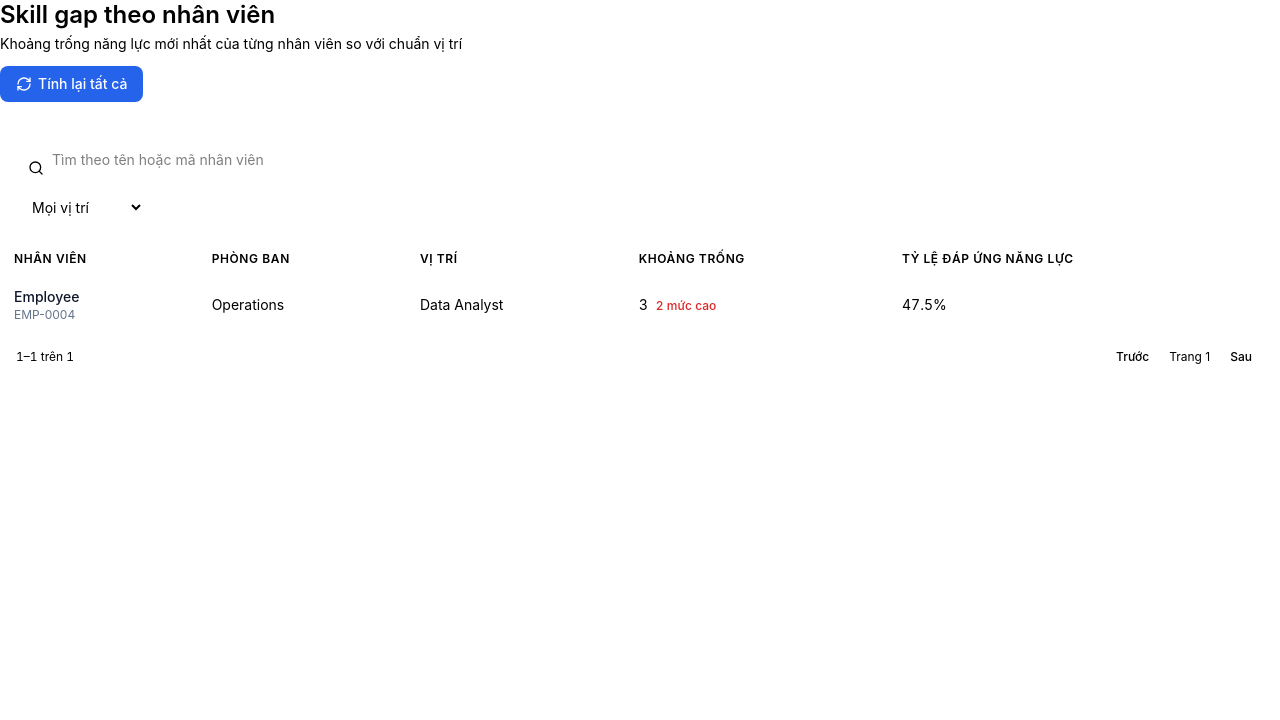
Test: SkillGapPage › opens the detail drawer when a row is clicked
The width and height of the screenshot is (1280, 720).
Click the text "EMP-0004" at [45, 314], box [14,307,75,322]
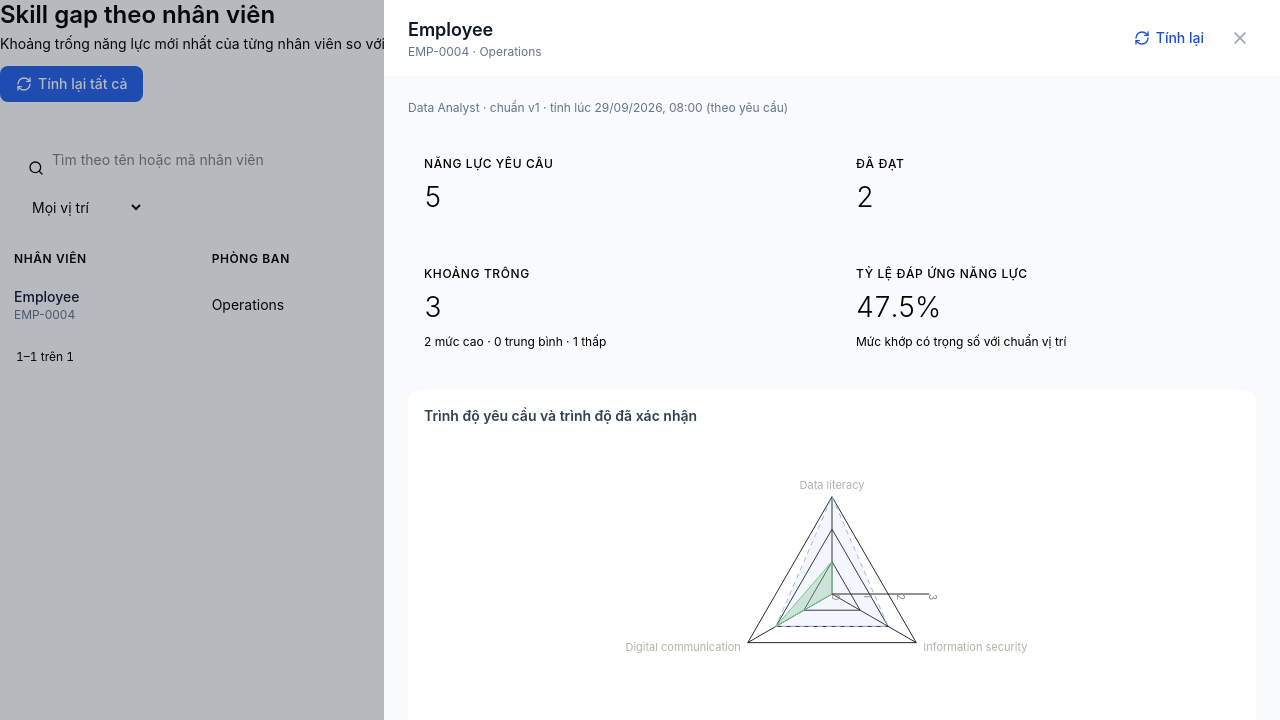
Now the dialog named "Chi tiết skill gap" is shown
Now the button "Tính lại" is shown, box [1122,22,1216,54]
